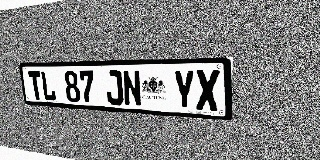7: (78, 71, 96, 104)
8: (63, 71, 81, 103)
J: (104, 70, 124, 105)
L: (40, 71, 56, 101)
N: (122, 70, 142, 106)
T: (28, 71, 44, 100)
X: (196, 70, 219, 111)
Y: (173, 70, 195, 110)
